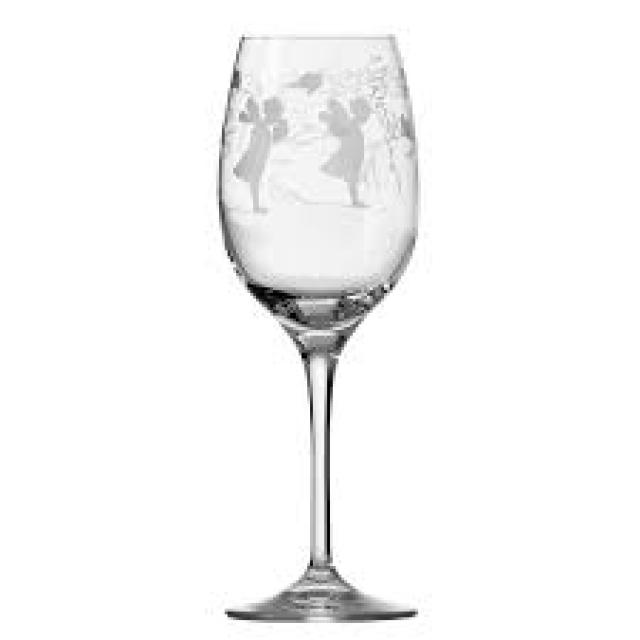glass: (213, 34, 418, 617)
